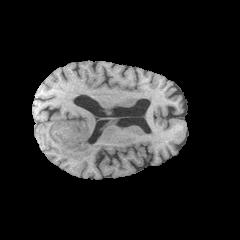glioma: (52, 109, 94, 160)
